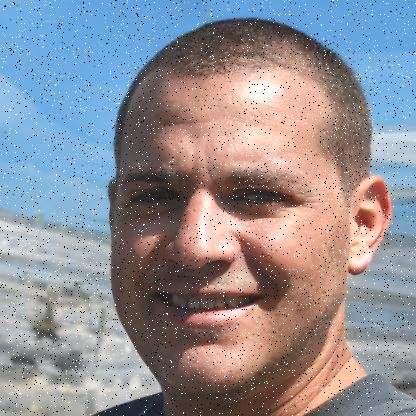eyeee: (226, 185, 302, 212), (127, 185, 182, 207)
mouthhz: (150, 288, 267, 328)
nosebb: (162, 193, 241, 268)
